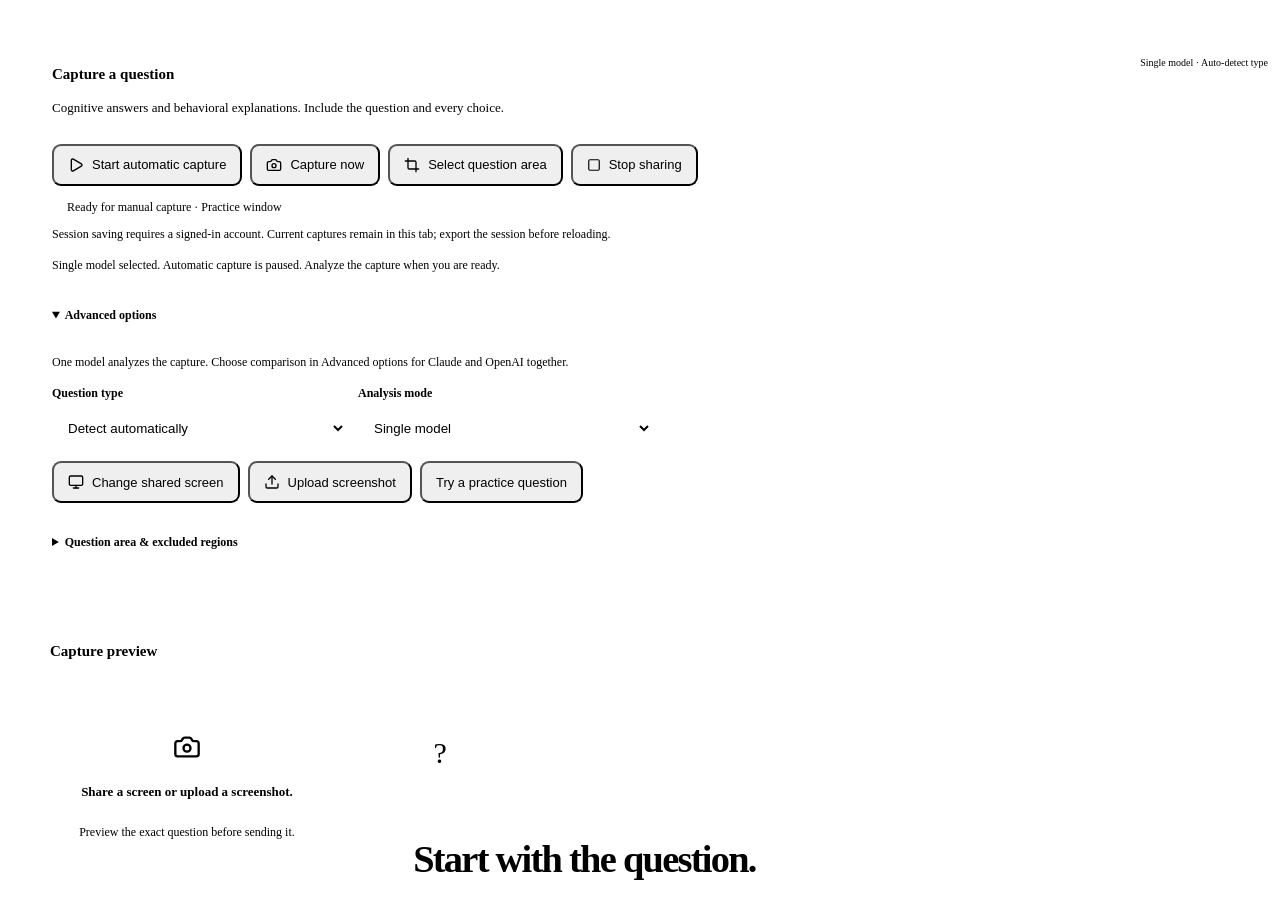
Test: aptitude workspace › cancels and pauses on mode change, keeps the screenshot, and rejects retired automatic callbacks and results
The width and height of the screenshot is (1280, 900).
Earlier steps of the test are not shown.
Click the heading "Advanced options" at (111,315), box x1=65 y1=308 x2=156 y2=322
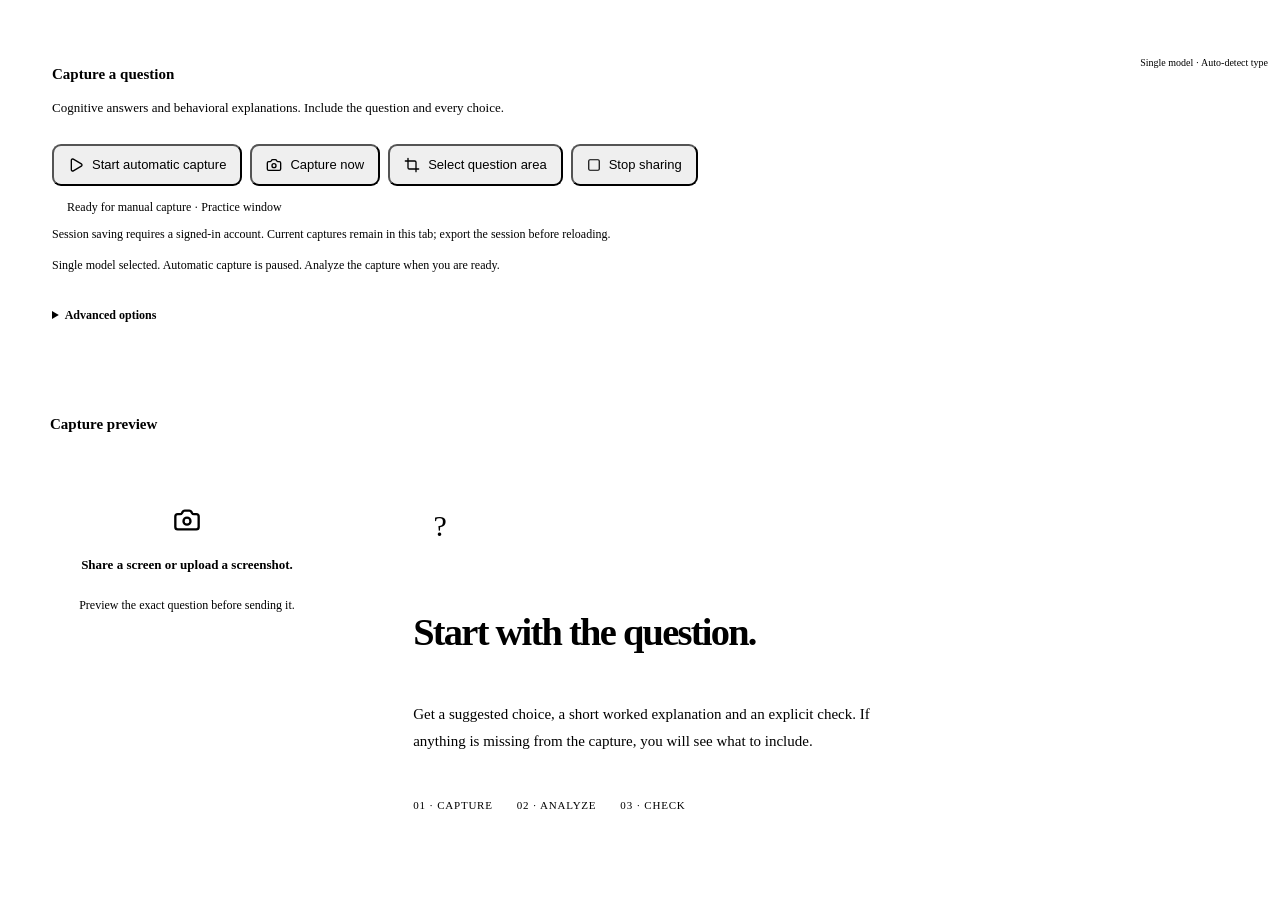
Click the heading "Advanced options" at (111,315), box x1=65 y1=308 x2=156 y2=322
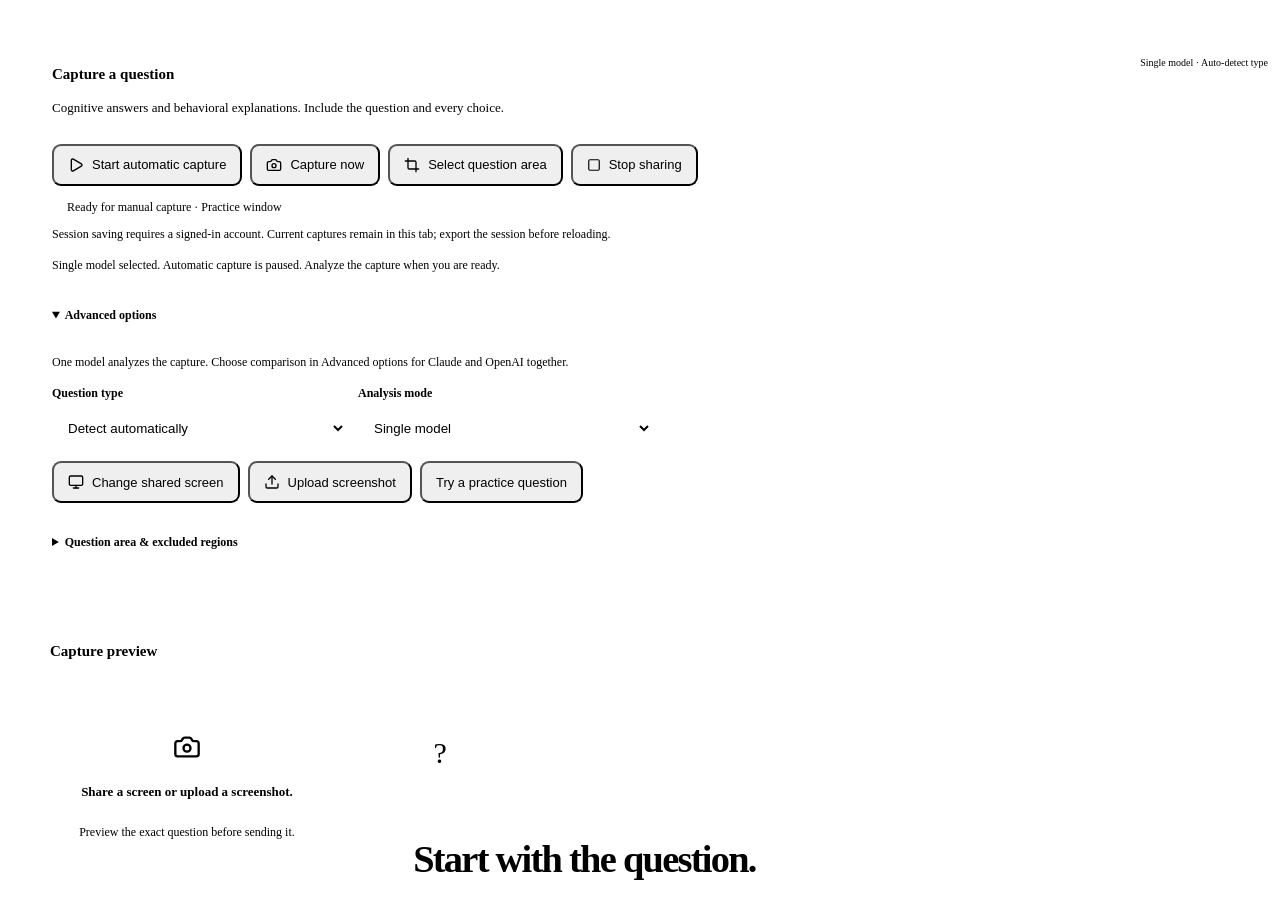
Select "Claude + OpenAI" in the dropdown labelled "Analysis mode" at (505,428), box x1=358 y1=407 x2=652 y2=449
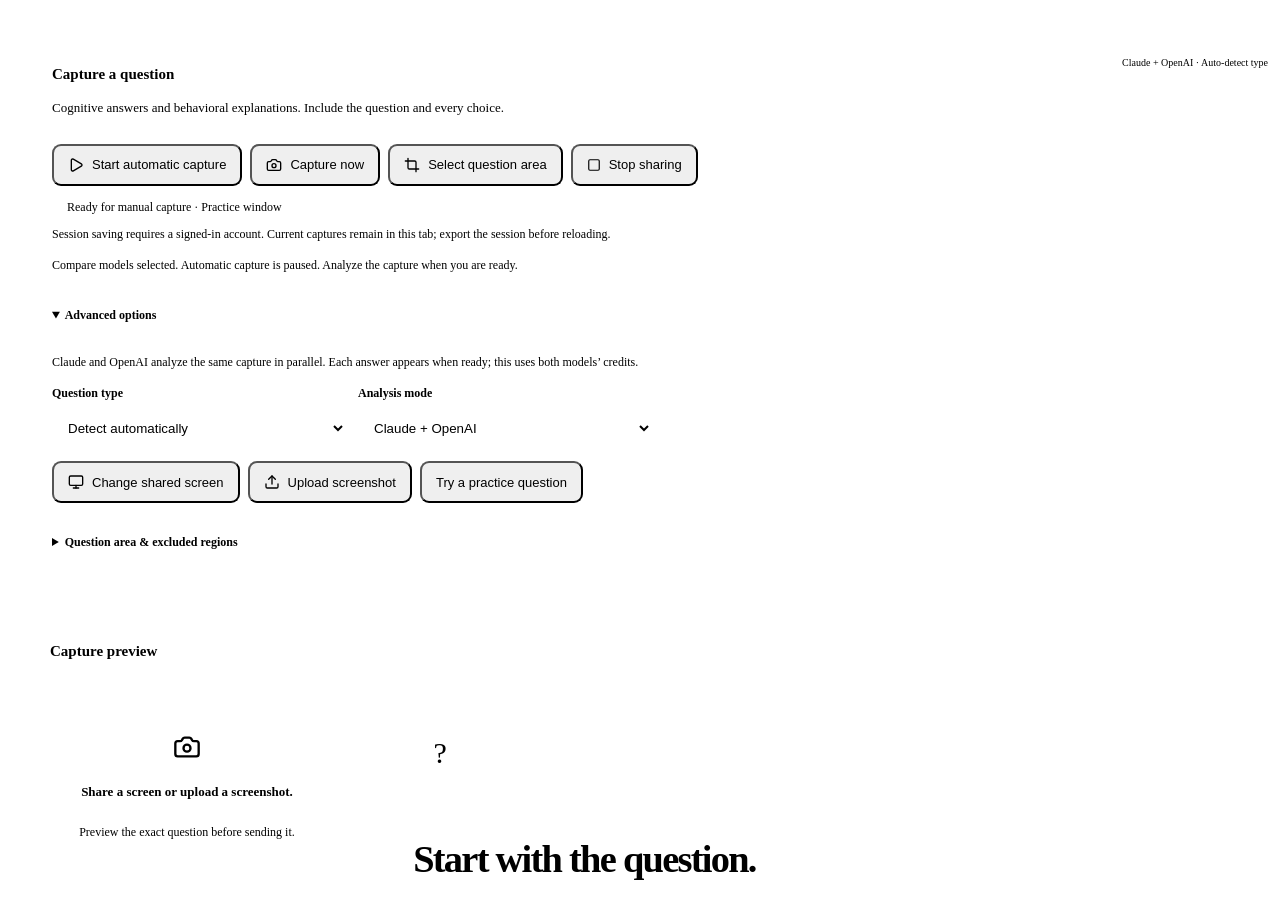
Click the button "Start automatic capture" at (147,165), box x1=52 y1=144 x2=242 y2=186
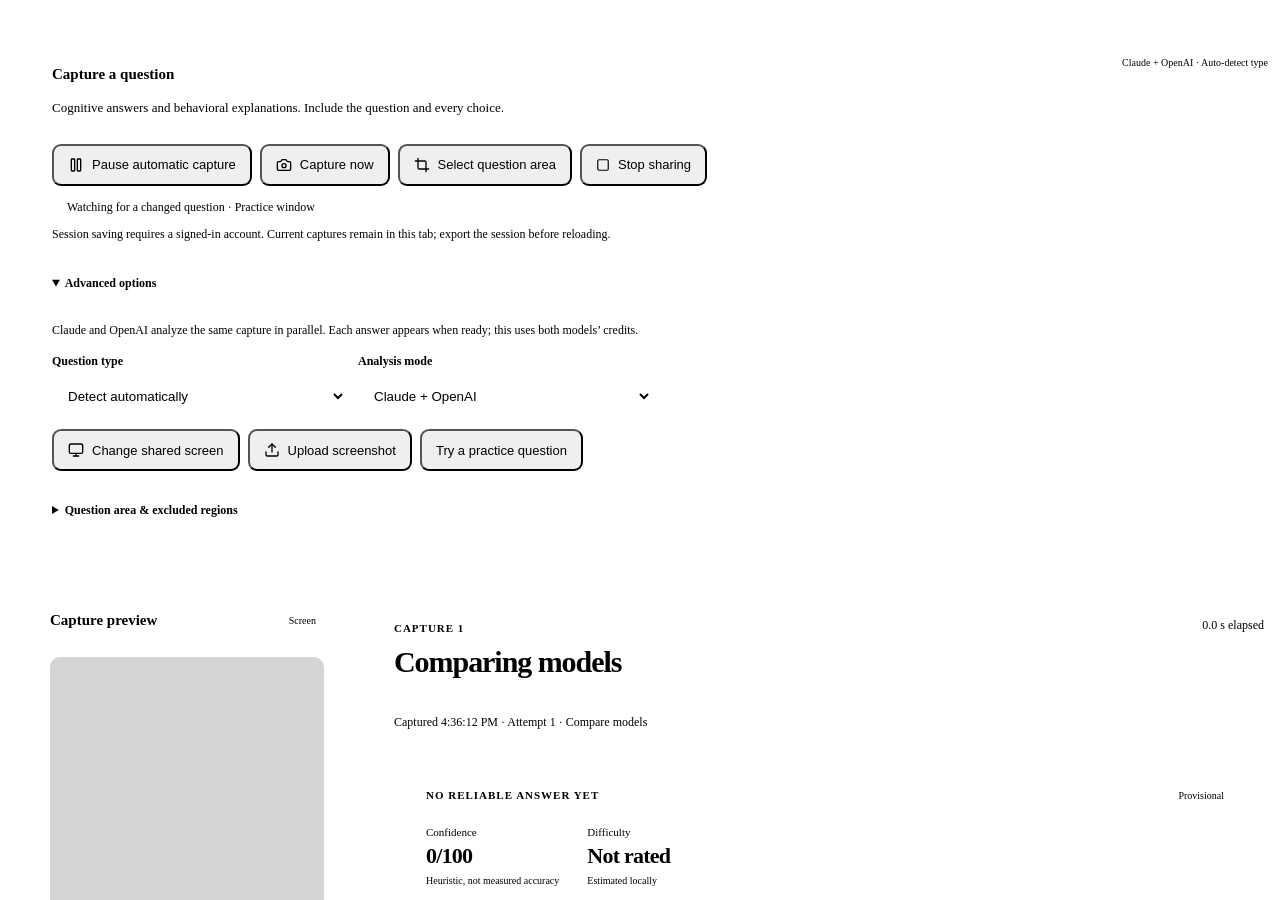
Result: the heading "Comparing models" is shown at x1=394 y1=645 x2=621 y2=679
Select "Single model" in the dropdown labelled "Analysis mode" at (505,396), box x1=358 y1=375 x2=652 y2=417
(page scrolled)
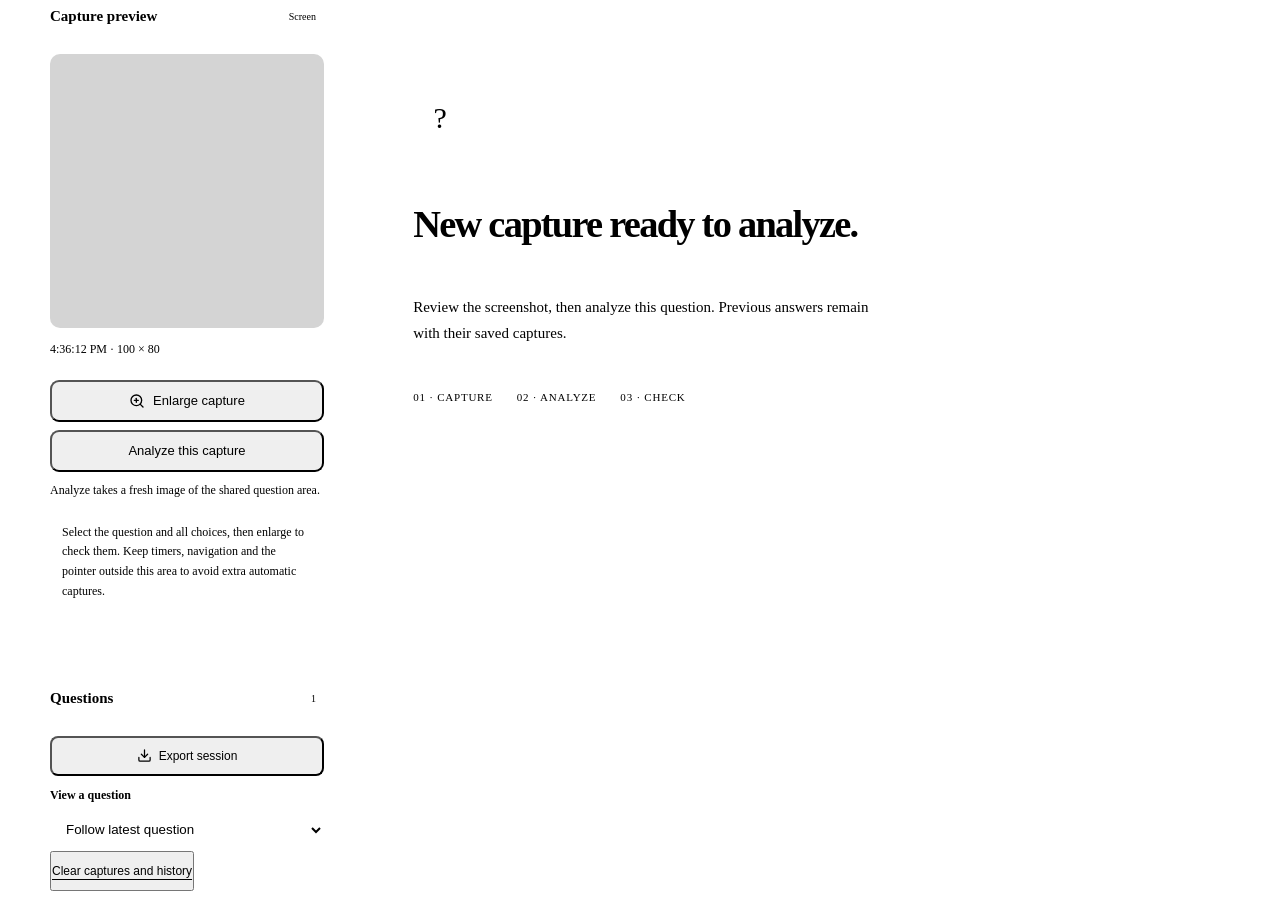
Click the button "Analyze this capture" at (187,451), box x1=50 y1=430 x2=324 y2=472
(page scrolled)
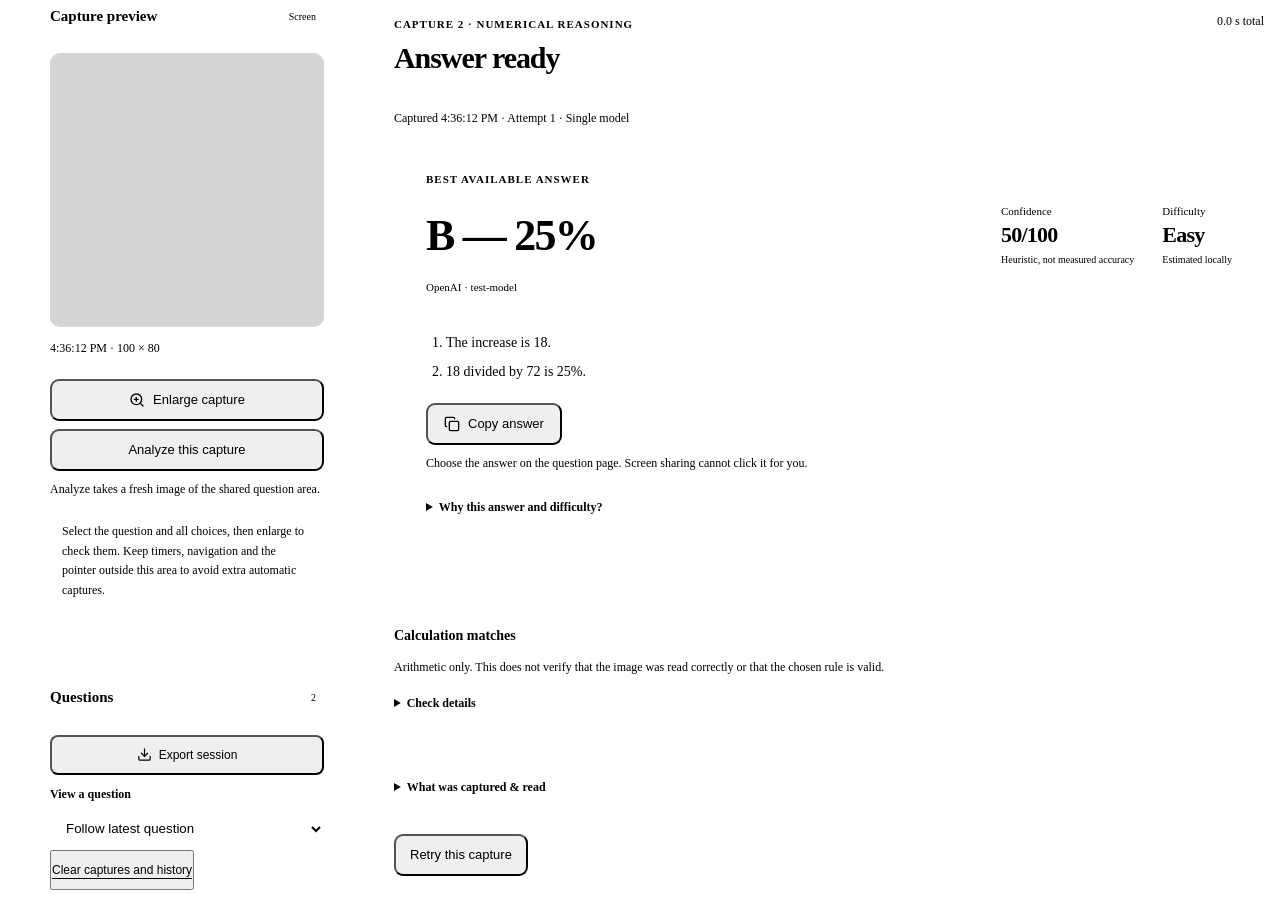
Result: the heading "B — 25%" is shown at x1=426 y1=211 x2=597 y2=260
